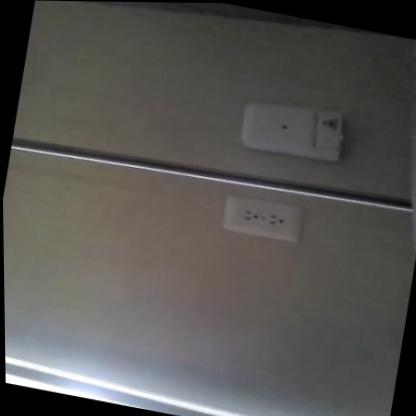OUTLET: (219, 191, 304, 243)
